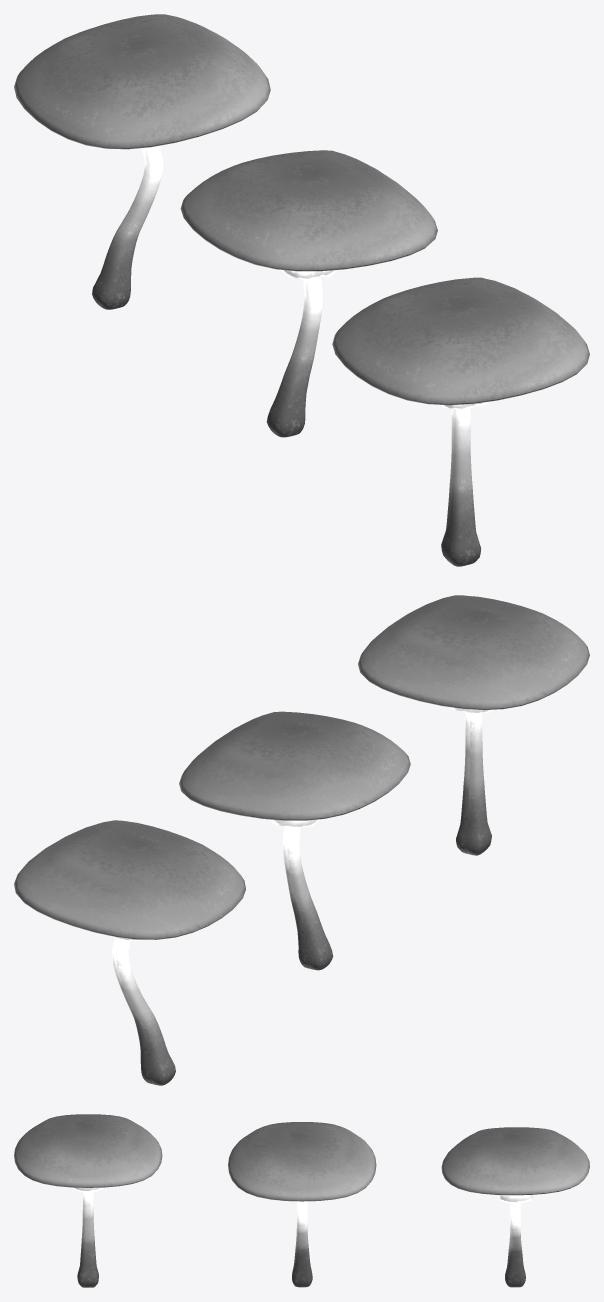
File: 03-MushroomUmbrella.fbx
3 views of the same model, one above another, from view 1: azimuth 30°, elevation 25°; view 2: azimuth 150°, elevation 25°; view 3: azimuth 270°, elevation 25° (orthographic). The views are drawn at different scales.
Visible parts, largest first — view 1: MushroomUmbrellaThree, MushroomUmbrellaOne, MushroomUmbrellaTwo; view 2: MushroomUmbrellaThree, MushroomUmbrellaOne, MushroomUmbrellaTwo; view 3: MushroomUmbrellaTwo, MushroomUmbrellaOne, MushroomUmbrellaThree.
Part boxes in pixels (x1,y1,x2,y2): MushroomUmbrellaThree: [14, 14, 270, 309]; MushroomUmbrellaOne: [332, 277, 589, 566]; MushroomUmbrellaTwo: [180, 150, 437, 437]; MushroomUmbrellaThree: [14, 820, 245, 1085]; MushroomUmbrellaOne: [358, 595, 589, 855]; MushroomUmbrellaTwo: [179, 711, 410, 970]; MushroomUmbrellaTwo: [228, 1122, 376, 1287]; MushroomUmbrellaOne: [14, 1114, 162, 1287]; MushroomUmbrellaThree: [441, 1127, 589, 1287].
Size of the model in its own units: 423 by 433 by 1428.
